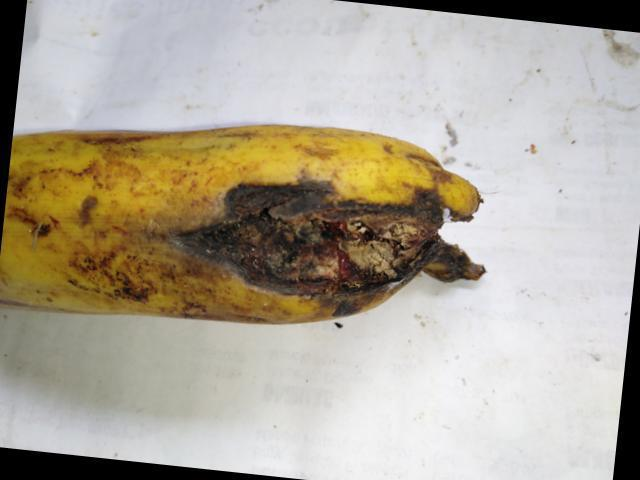ripe: (0, 108, 188, 337)
rotten: (141, 153, 491, 333)
